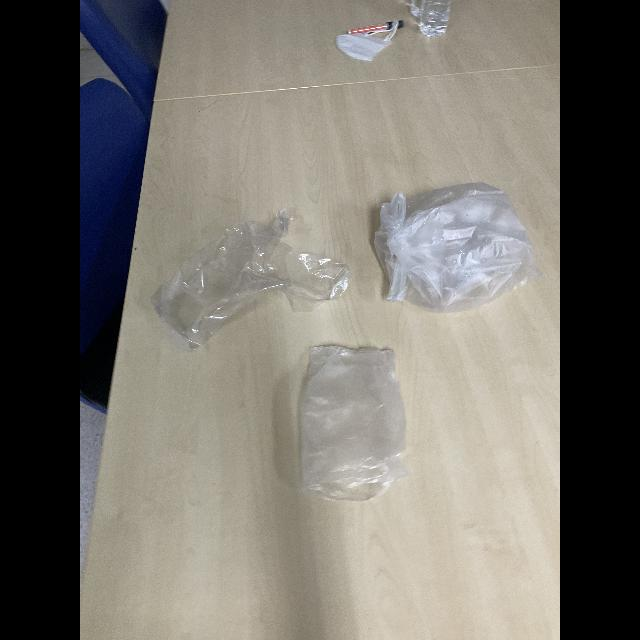plastic_bag: (157, 212, 336, 346), (364, 183, 534, 314), (292, 335, 412, 517)
scrap_plastic: (328, 10, 404, 64)
